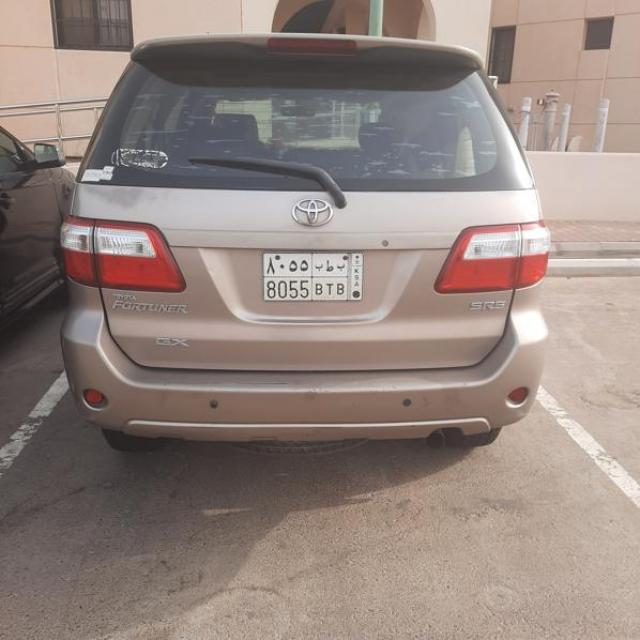license_plate: (263, 252, 363, 300)
